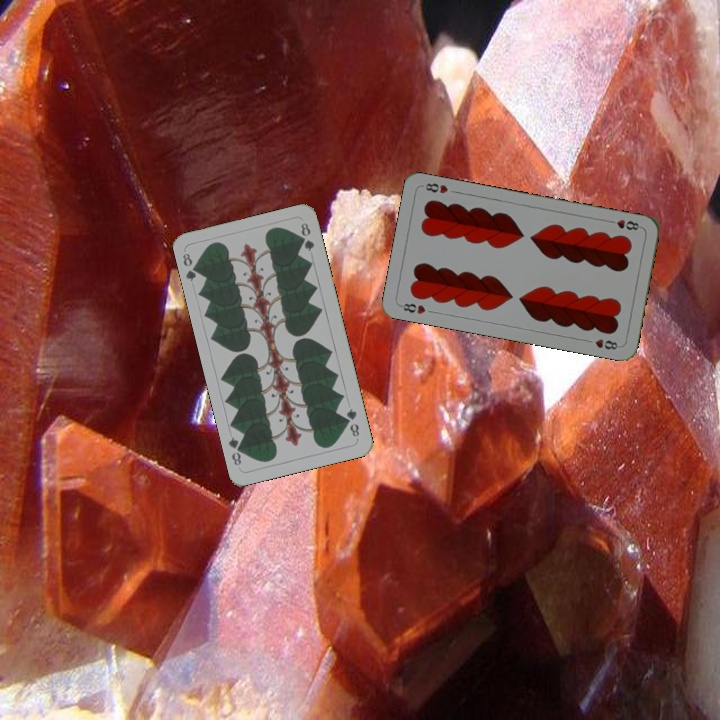G8: (178, 249, 202, 284), (342, 404, 362, 440)
H8: (604, 215, 644, 233), (396, 299, 428, 317)
